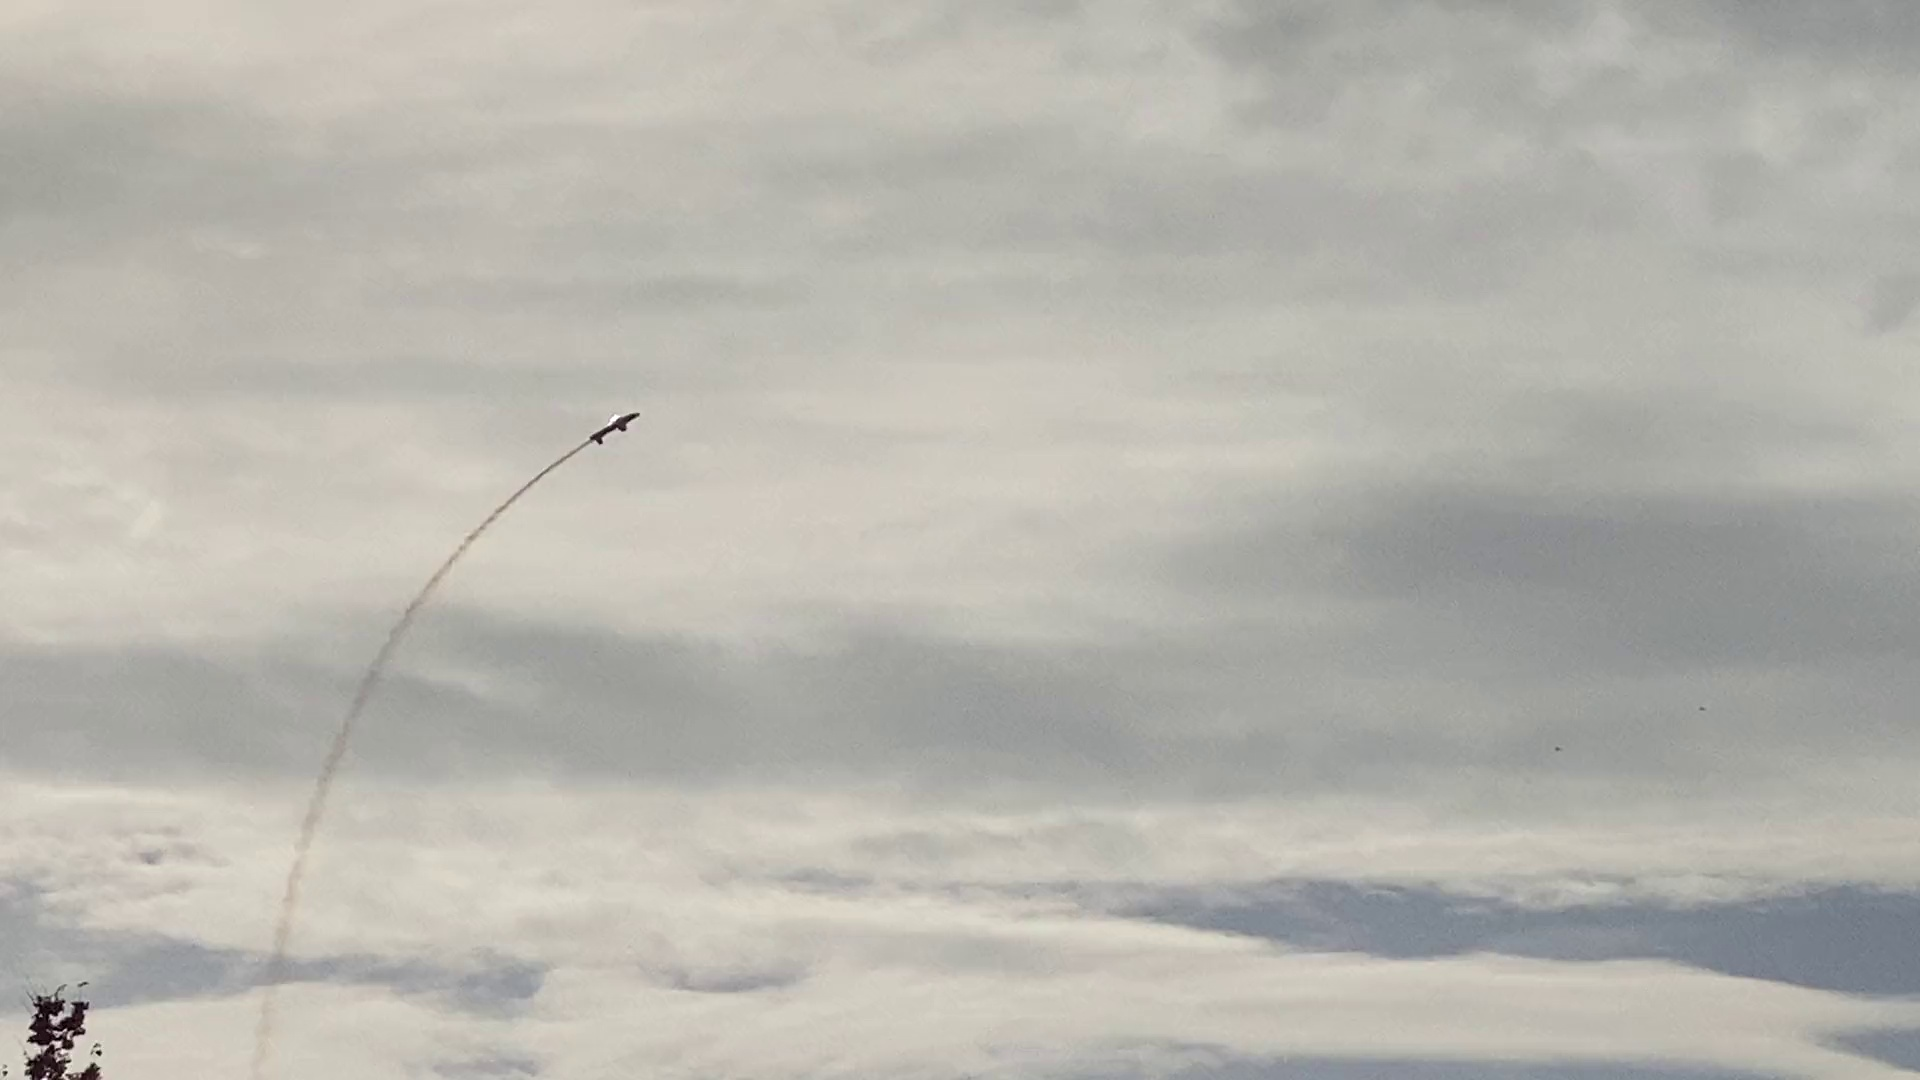plane: (585, 410, 640, 442)
